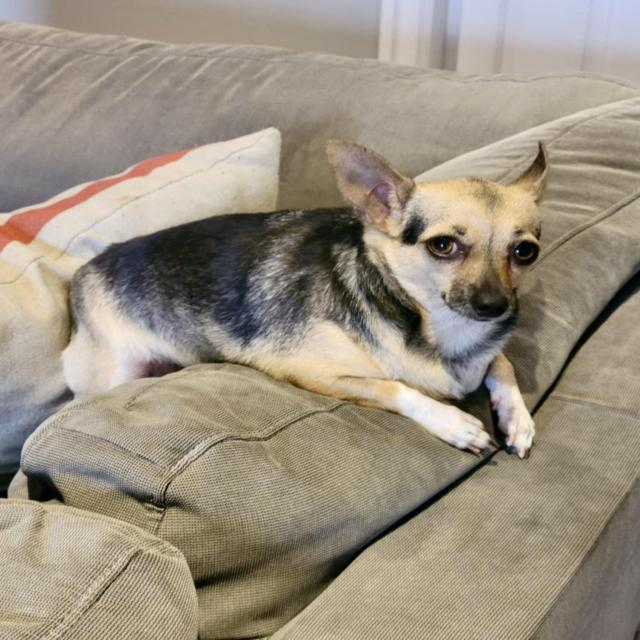chihuahua_dog: (306, 116, 590, 341)
